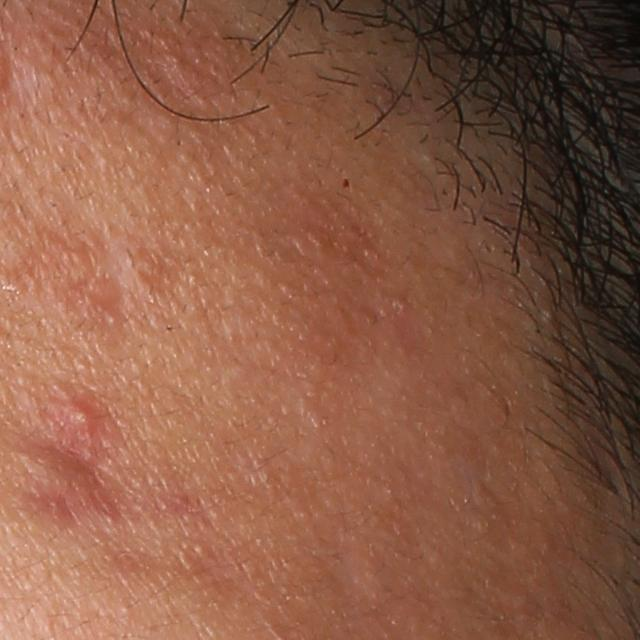papule: (53, 396, 115, 446)
